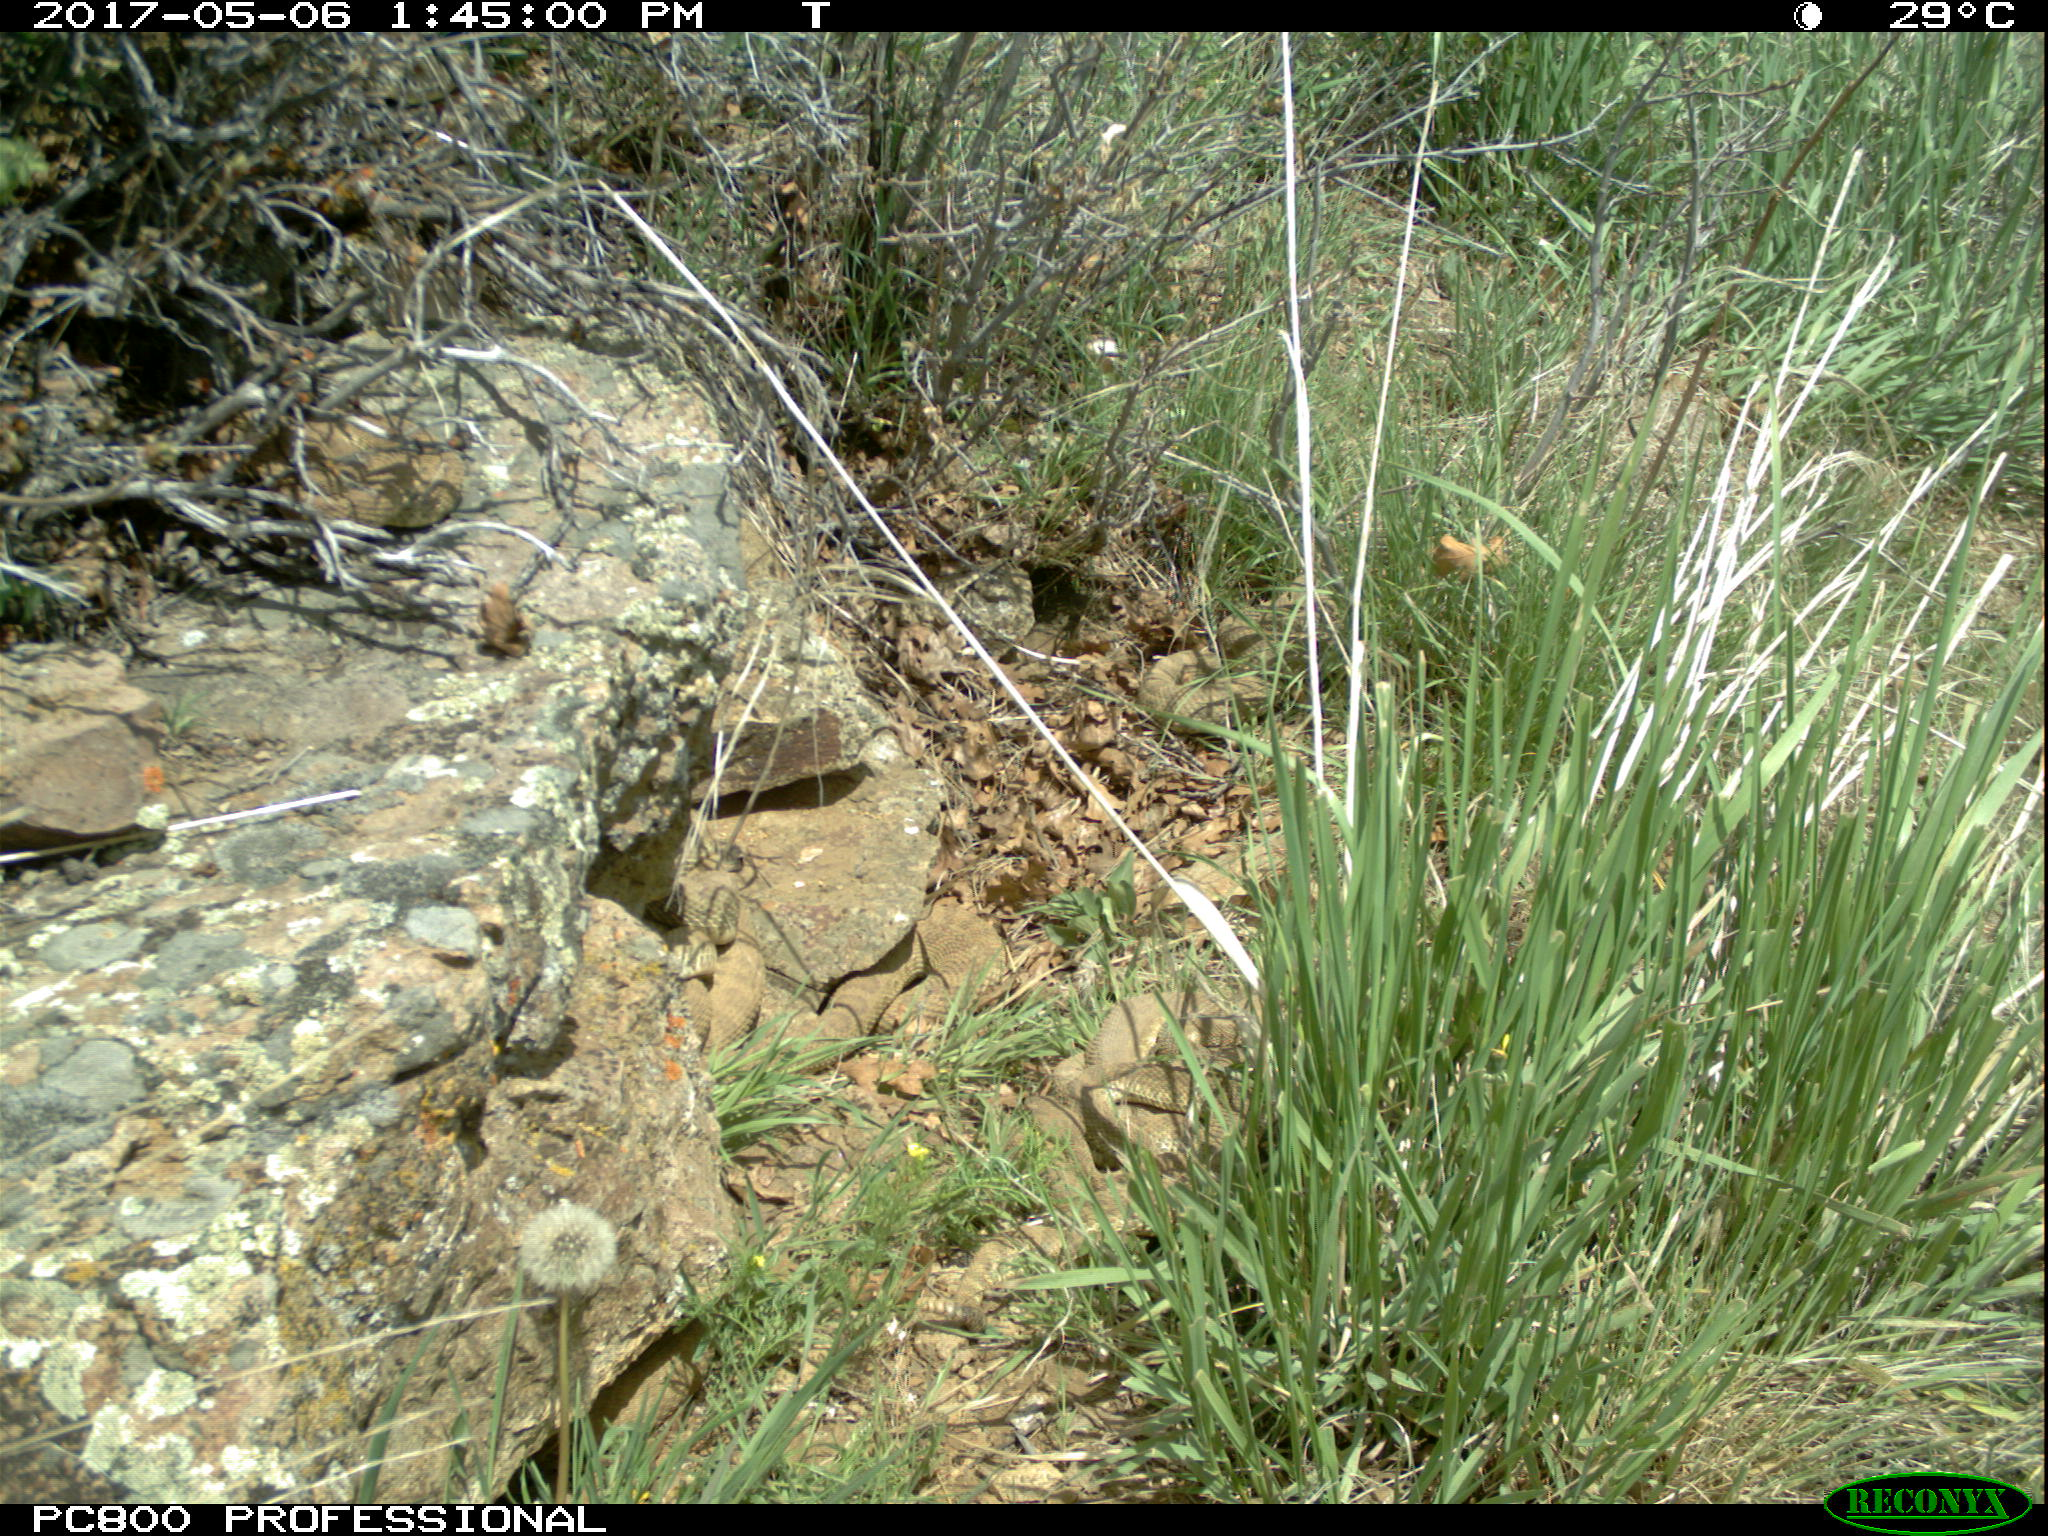snake: (613, 879, 1030, 1058), (1042, 987, 1280, 1167), (918, 1225, 1132, 1329), (1150, 615, 1308, 724), (590, 1338, 731, 1439)
